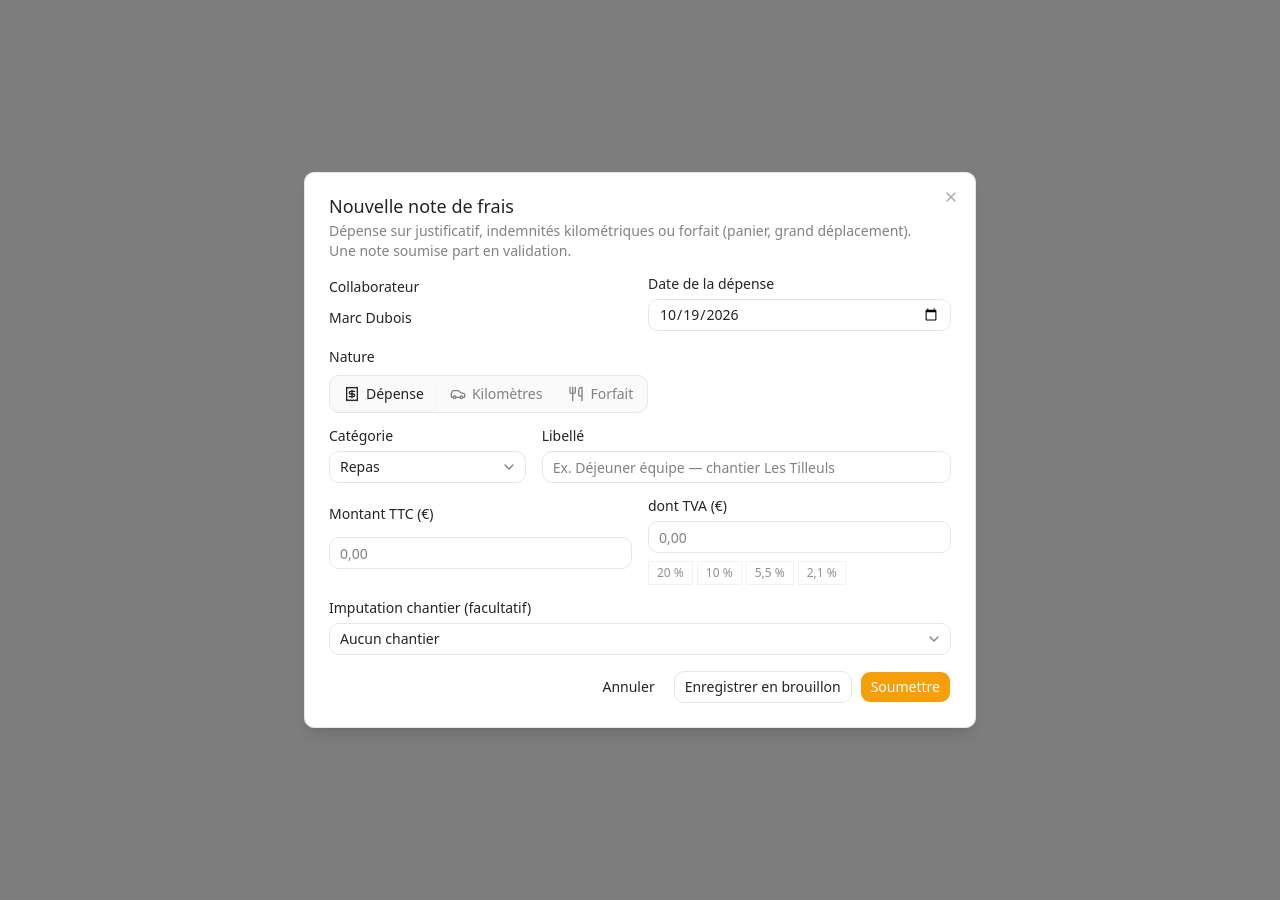
Test: NoteFraisDialog › bloque la soumission sans libellé ni montant
The image size is (1280, 900).
Click the button "Soumettre".
click(905, 687)  # box [860,671,951,703]
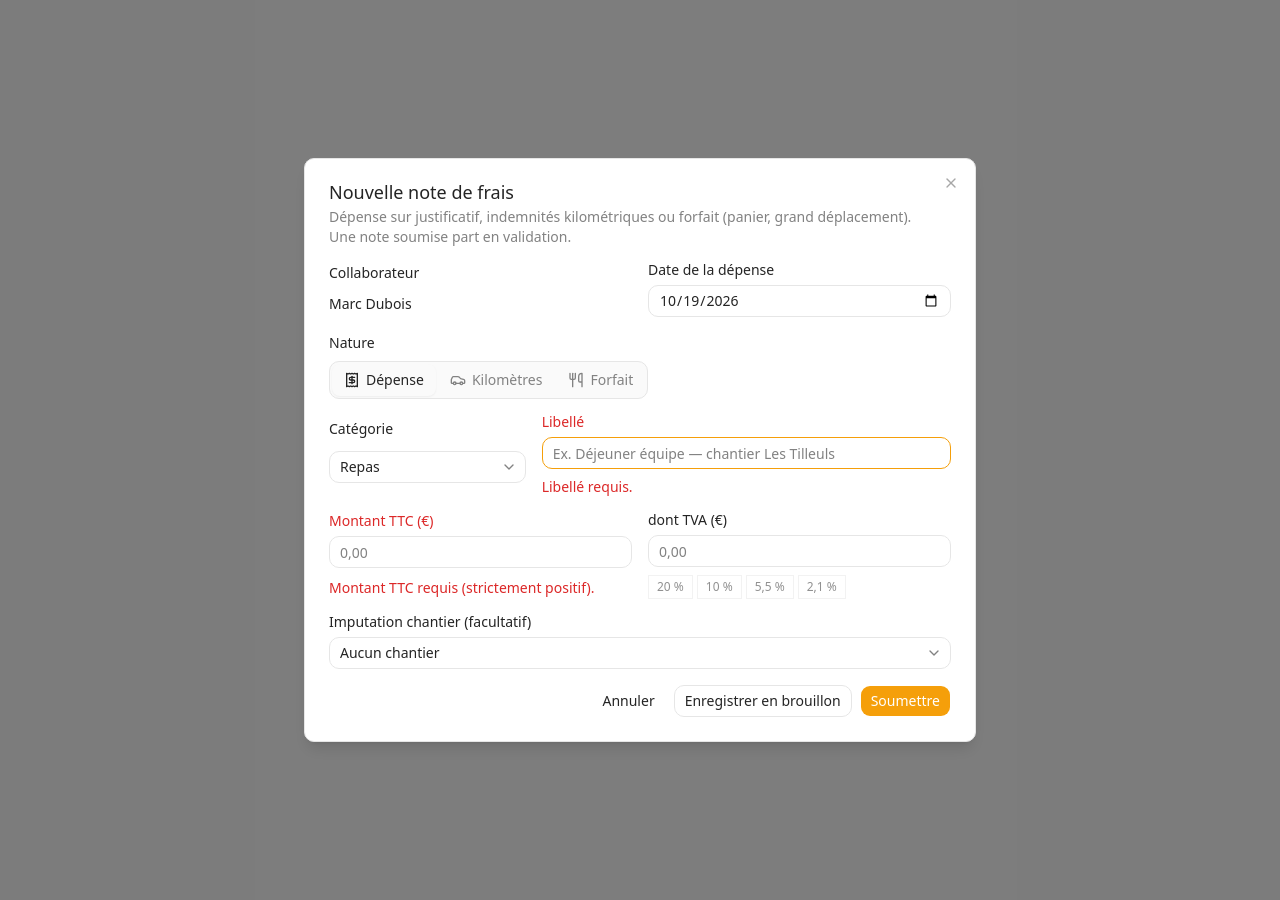
Expected: the text "Libellé requis." is shown, [542,477,633,496]
Expected: the text "Montant TTC requis (strictement positif)." is shown, [329,578,632,599]
